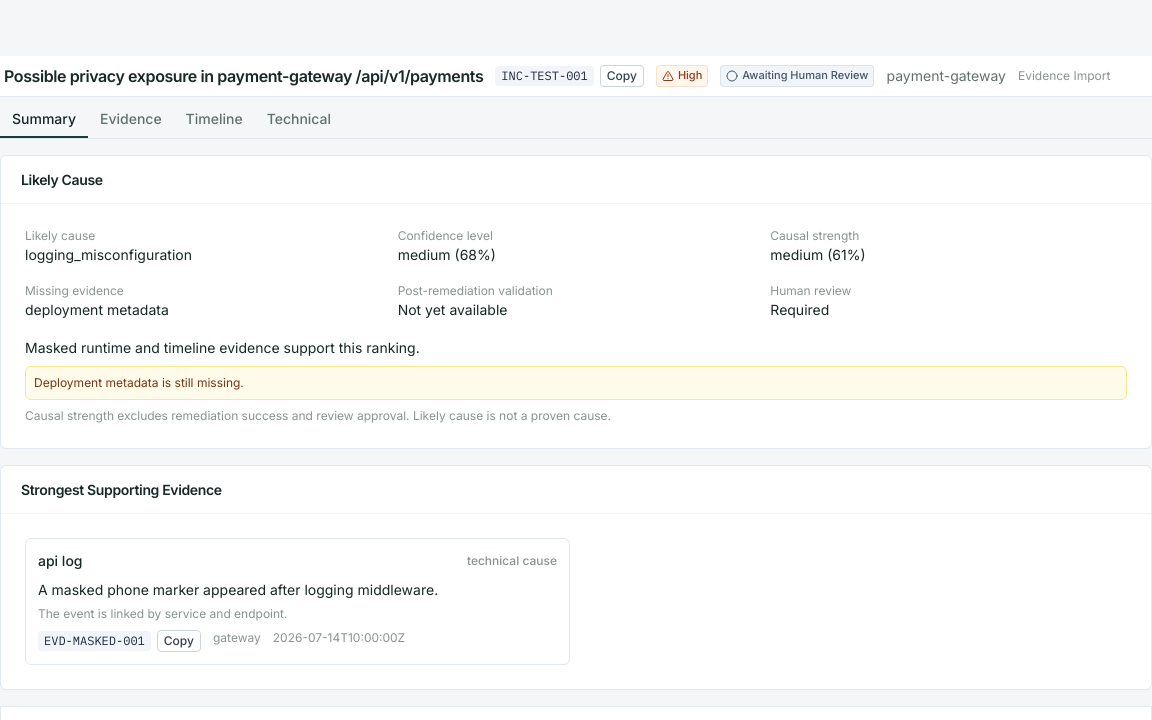
Test: route-backed incident workspace › uses backend evidence strength and keeps technical evidence collapsed
Expected: the heading "Strongest Supporting Evidence" is shown, [21, 480, 222, 499]
Expected: the text "Masked runtime and timeline evidence support this ranking." is shown, [25, 339, 420, 356]
Click the tab "Technical".
click(299, 120)  # box [255, 102, 343, 138]
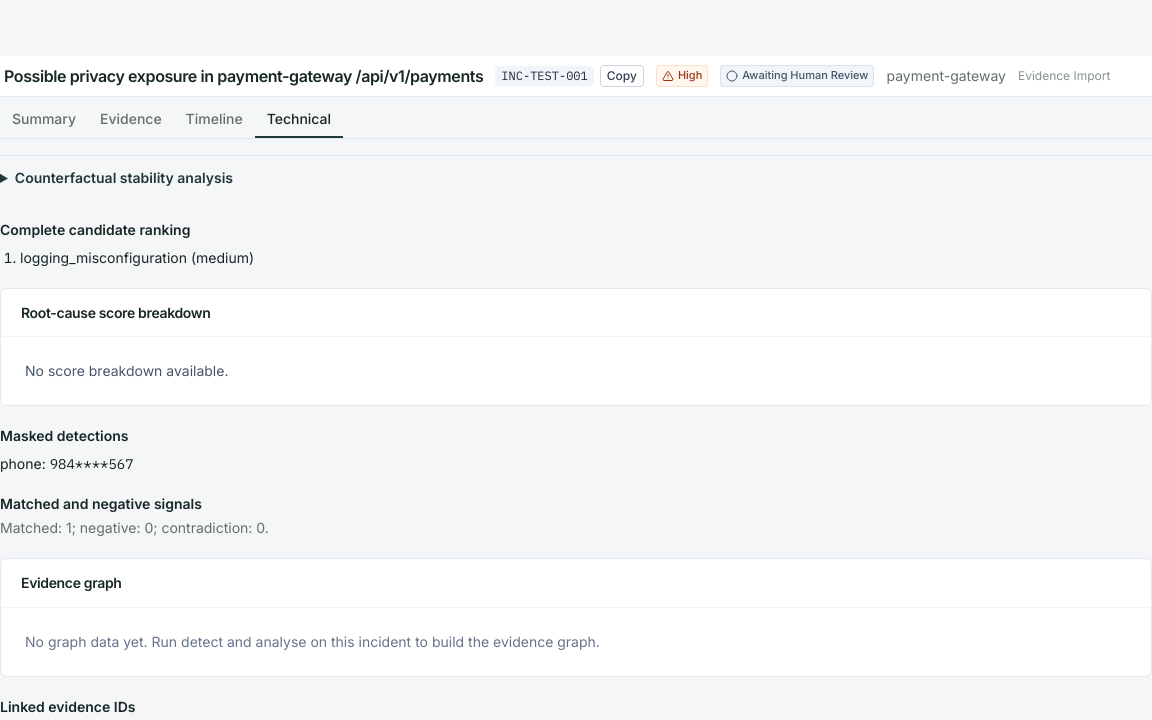
Expected: the text "984****567" is shown, [50, 455, 134, 473]
